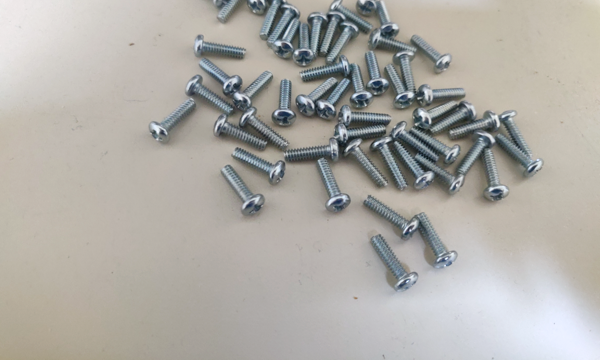shortscrew: (371, 234, 419, 293), (363, 195, 420, 240), (417, 212, 459, 269), (221, 165, 265, 217), (343, 139, 389, 188), (496, 134, 545, 179), (239, 108, 290, 151), (370, 136, 409, 192), (413, 153, 465, 195), (149, 99, 197, 144), (231, 147, 286, 186), (393, 142, 436, 191), (390, 122, 441, 162), (213, 114, 269, 150), (186, 75, 235, 116), (409, 127, 460, 166), (455, 131, 496, 177), (317, 158, 351, 213), (198, 58, 243, 98), (498, 110, 534, 159), (296, 77, 338, 118), (428, 101, 478, 135), (410, 34, 452, 74), (234, 70, 273, 111), (448, 110, 501, 140), (327, 0, 374, 33), (267, 4, 300, 49), (481, 149, 509, 202), (384, 64, 416, 110), (369, 28, 418, 58), (326, 21, 359, 65), (299, 56, 351, 83), (317, 79, 351, 120), (413, 100, 459, 130), (284, 138, 340, 162), (195, 34, 247, 59), (335, 123, 387, 147), (338, 105, 392, 128), (393, 50, 417, 100), (364, 51, 390, 97), (273, 19, 302, 60), (272, 80, 297, 127), (349, 63, 374, 109), (260, 0, 288, 41), (373, 1, 400, 40), (416, 85, 466, 106), (293, 24, 315, 67), (217, 0, 255, 23), (311, 12, 327, 58), (247, 0, 280, 16), (356, 0, 383, 17), (186, 0, 230, 8)
